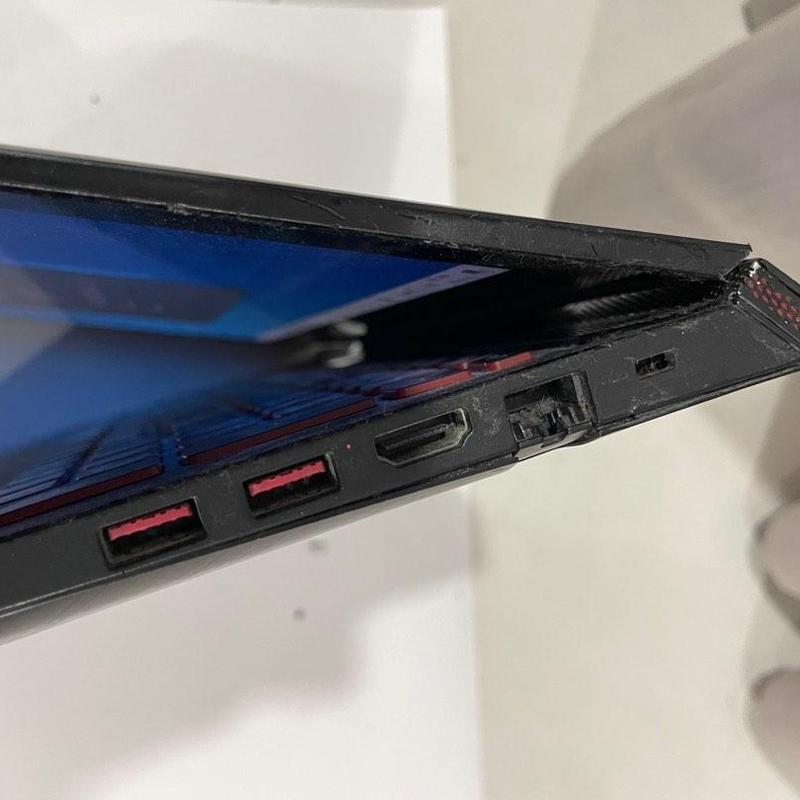ETHERNET: (487, 372, 607, 462)
HDMI: (359, 400, 473, 485)
USB: (94, 484, 216, 579), (231, 443, 349, 534)
